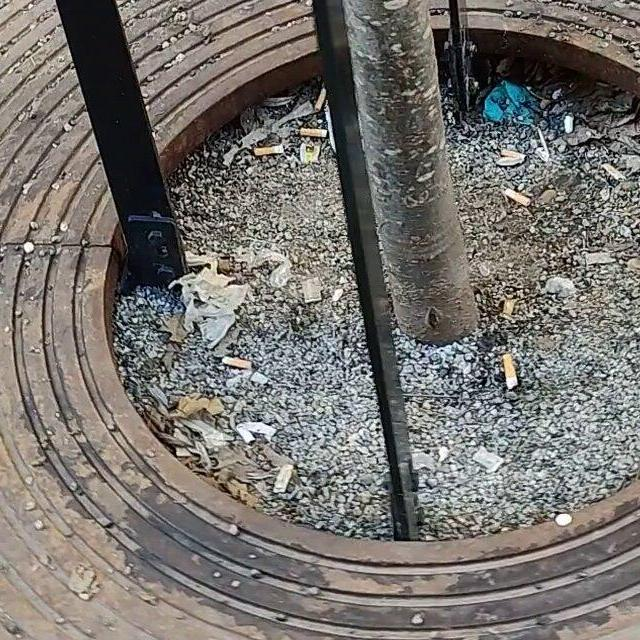Cigarette Butt: (499, 350, 521, 388), (273, 463, 295, 501), (299, 123, 333, 139), (253, 146, 284, 160), (504, 189, 528, 206), (504, 146, 527, 162), (505, 294, 518, 322), (315, 91, 328, 114)
